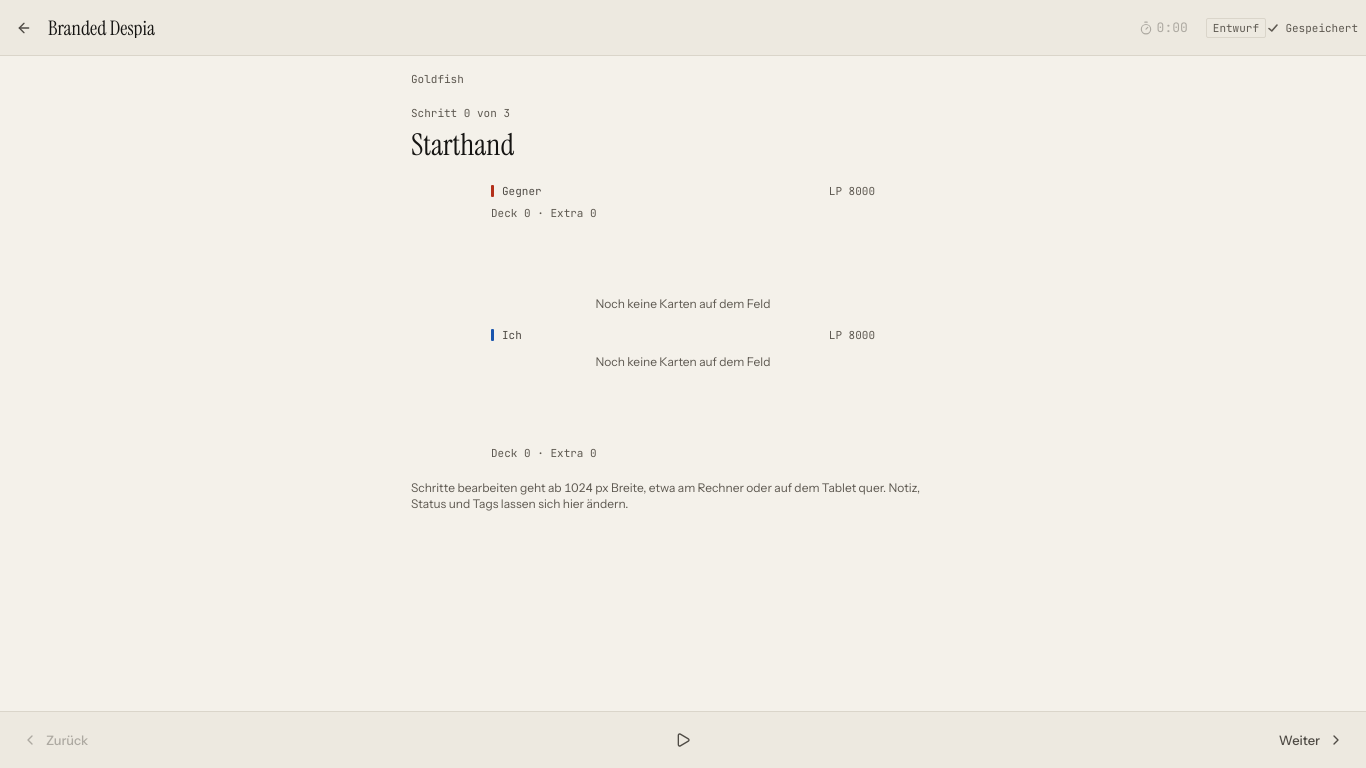
ComboReader · Übungsmodus › hält am Ende der Line an und sagt, was das Durchspielen gekostet hat
This screenshot has width=1366, height=768.
Click the button "Weiter": (1299, 740) [908,712,1358,767]
Wait 2000 ms
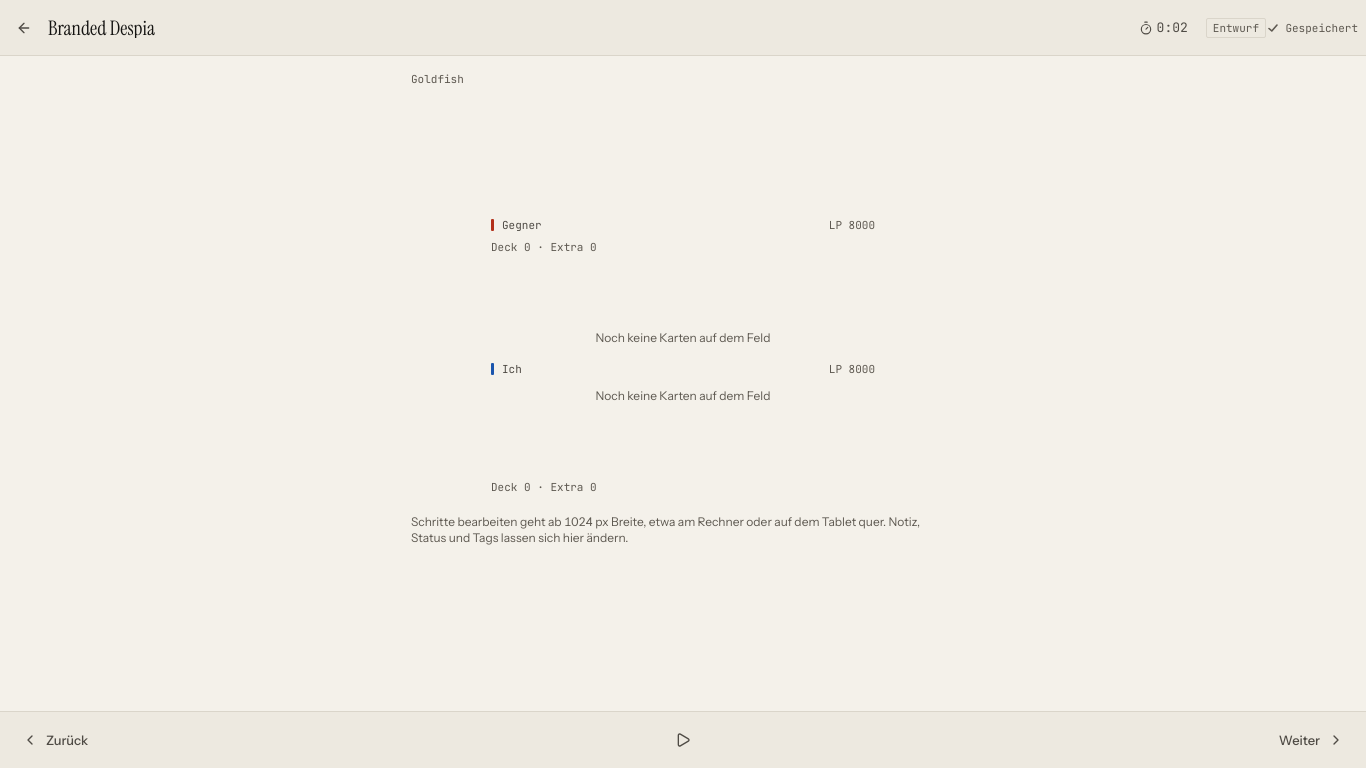
Click the button "Weiter": (1299, 740) [908,712,1358,767]
Wait 2000 ms
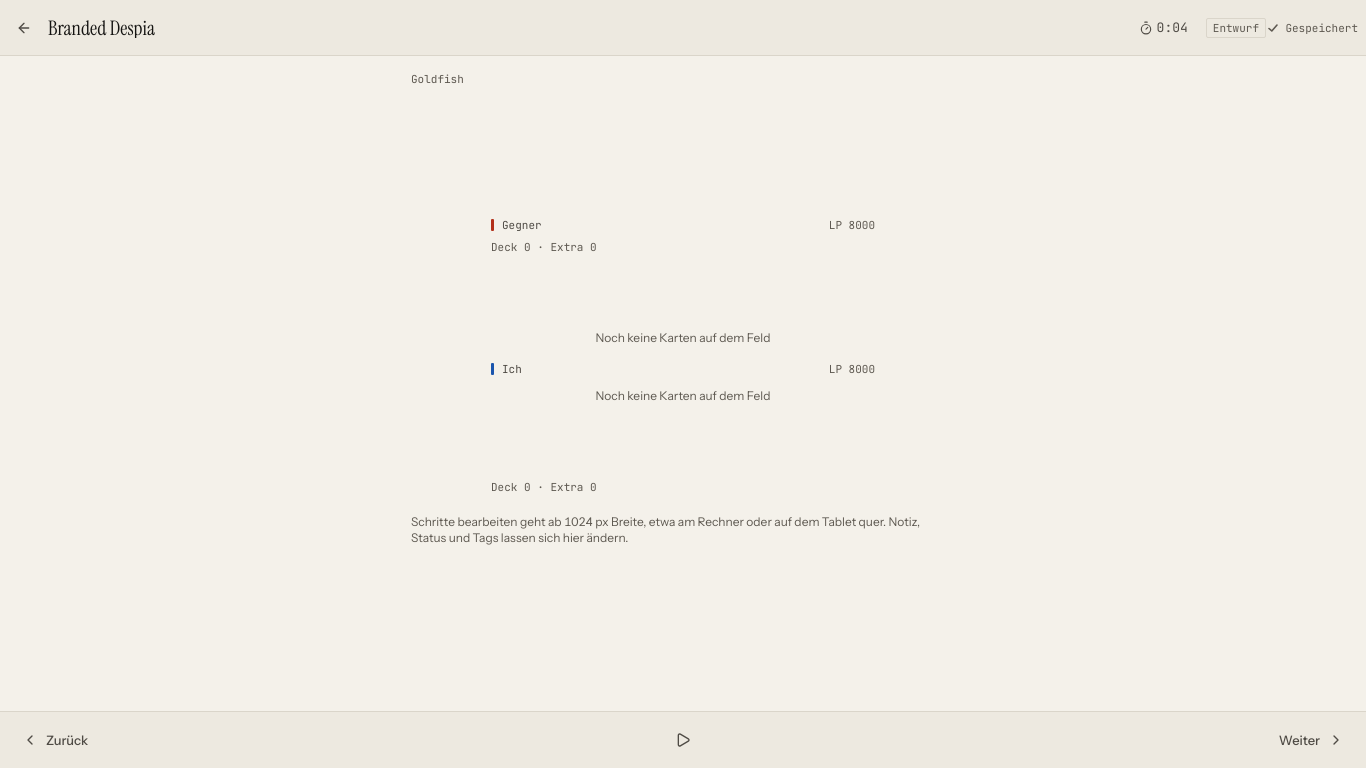
Click the button "Weiter": (1299, 740) [908,712,1358,767]
Wait 2000 ms
(page scrolled)
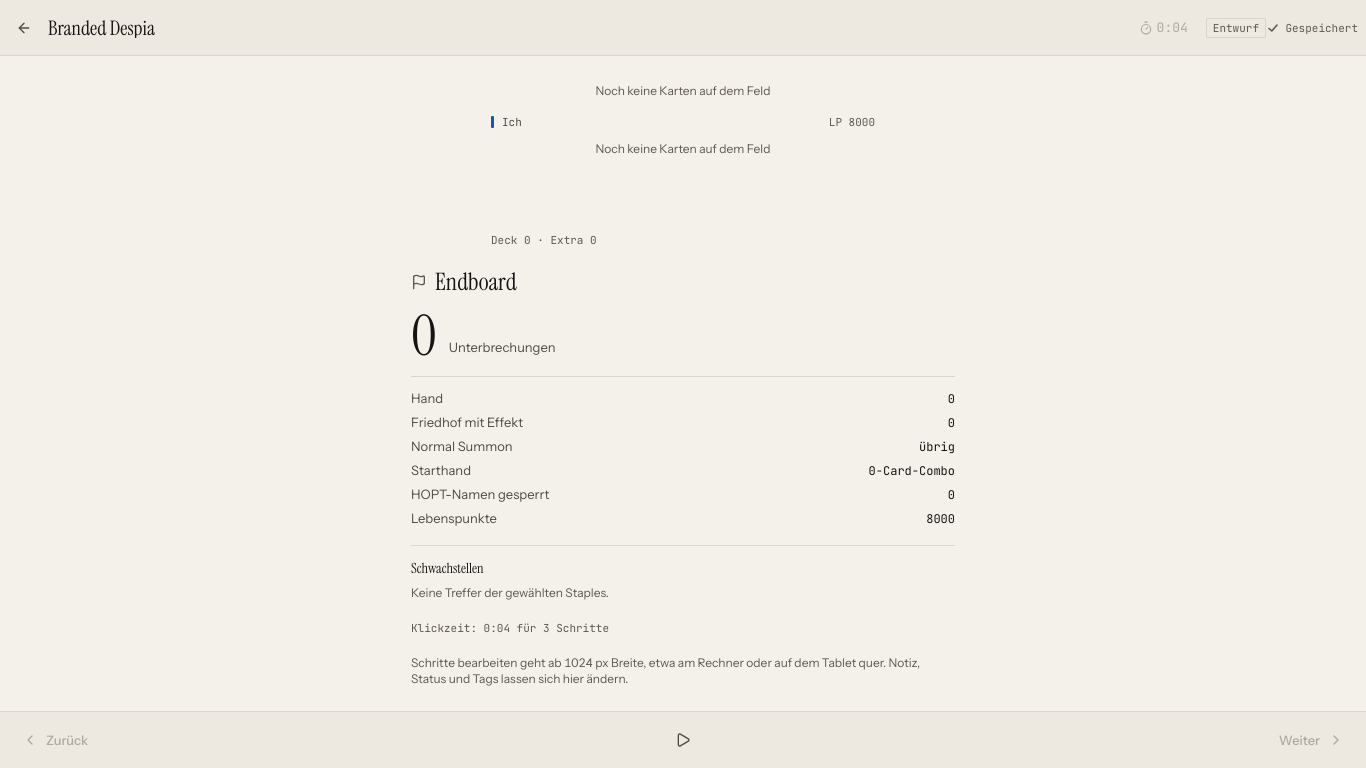
Expected: the button named "Uhr weiterlaufen lassen" is disabled, [1133,14,1194,40]
Expected: the text "Klickzeit: 0:04 für 3 Schritte" is shown, [411,621,609,635]
